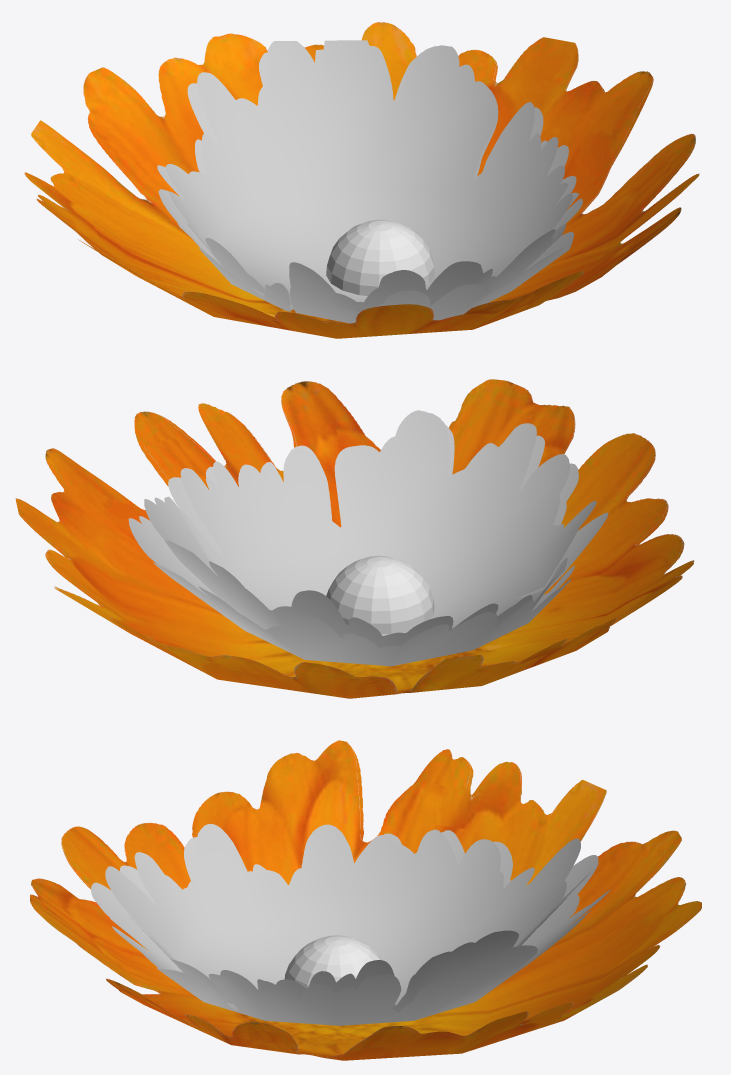
Rendered from Y_Fleur.FBX.
The picture shows the model from 3 angles, top to bottom: view 1: azimuth 30°, elevation 25°; view 2: azimuth 150°, elevation 25°; view 3: azimuth 270°, elevation 25°; orthographic projection. The views are drawn at different scales.
Parts seen in each view (by area): view 1: Y_Petals01, Y_Petals02, P_Petals02_back, Y_Petals01_back, Y_Fleur; view 2: Y_Petals01, Y_Petals02, Y_Petals01_back, P_Petals02_back, Y_Fleur; view 3: Y_Petals02, Y_Petals01, Y_Petals01_back, P_Petals02_back, Y_Fleur.
Boxes of the visible parts, x1,y1,x2,y2 form: Y_Petals01: [165, 40, 572, 312]; Y_Petals02: [24, 22, 699, 324]; P_Petals02_back: [24, 49, 699, 338]; Y_Petals01_back: [157, 49, 582, 323]; Y_Fleur: [326, 219, 434, 295]; Y_Petals01: [144, 410, 596, 647]; Y_Petals02: [15, 379, 694, 692]; Y_Petals01_back: [128, 425, 608, 666]; P_Petals02_back: [16, 397, 693, 698]; Y_Fleur: [326, 555, 434, 633]; Y_Petals02: [30, 740, 701, 1057]; Y_Petals01: [105, 823, 591, 1012]; Y_Petals01_back: [91, 830, 611, 1025]; P_Petals02_back: [30, 749, 701, 1060]; Y_Fleur: [284, 935, 381, 988].
Size of the model in its own units: 56.75 by 16.6 by 57.13.
